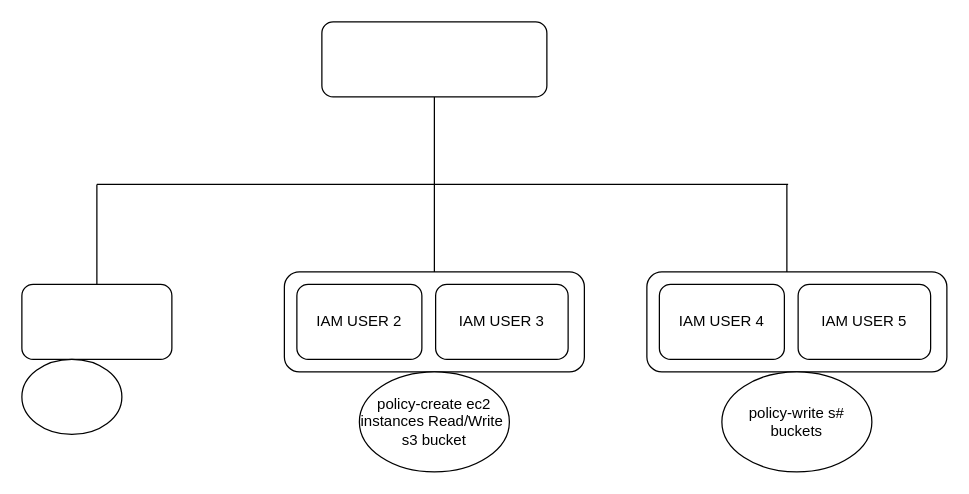
The diagram is 969 pixels wide and 494 high, and some of its shapes have lost their labels. The shapes that lost their labels are listed below. From the top down, each one's box as (x1, y1, x2, y2) in pixels, then its label:
(321, 21, 547, 97): ROOT USER
(21, 283, 172, 359): IAM USER 1
(21, 358, 122, 434): policy-admin access
